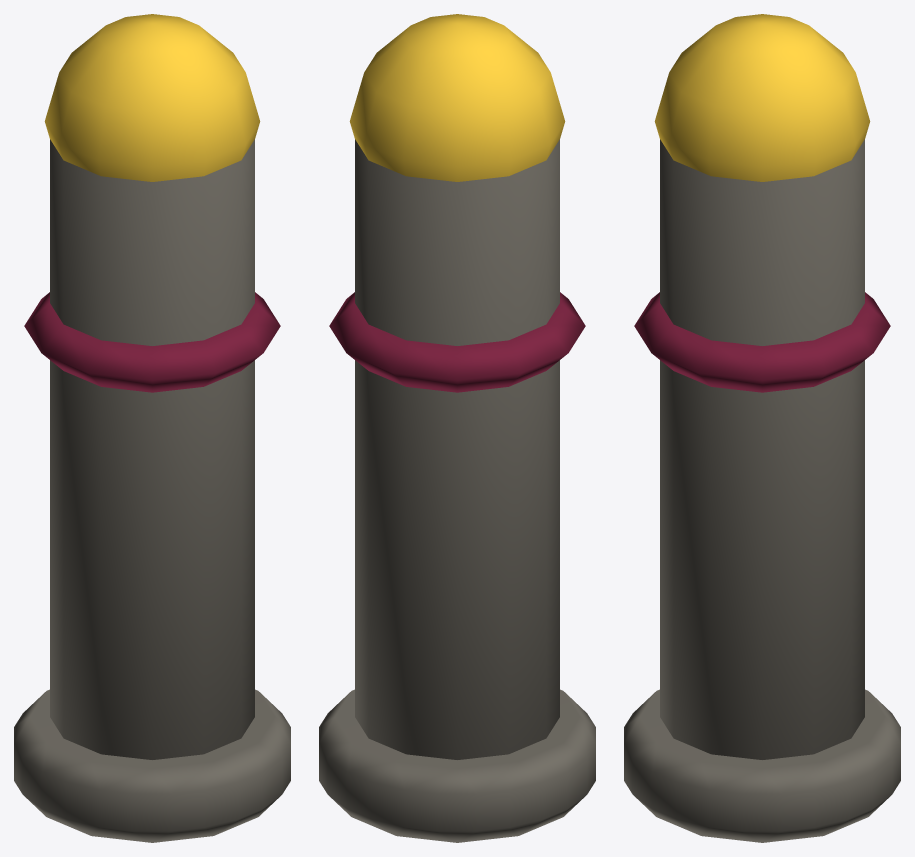
Rendered from bollard.glb.
The picture shows the model from 3 angles, left to right: view 1: azimuth 30°, elevation 25°; view 2: azimuth 150°, elevation 25°; view 3: azimuth 270°, elevation 25°; orthographic projection.
Parts seen in each view (by area): view 1: Bollard.001; view 2: Bollard.001; view 3: Bollard.001.
Part boxes in pixels (<box>): Bollard.001: <box>14,14,290,842</box>; Bollard.001: <box>319,14,595,842</box>; Bollard.001: <box>624,14,900,842</box>.
Bounding box in the file's own units: 0.2696 × 0.825 × 0.2696.
